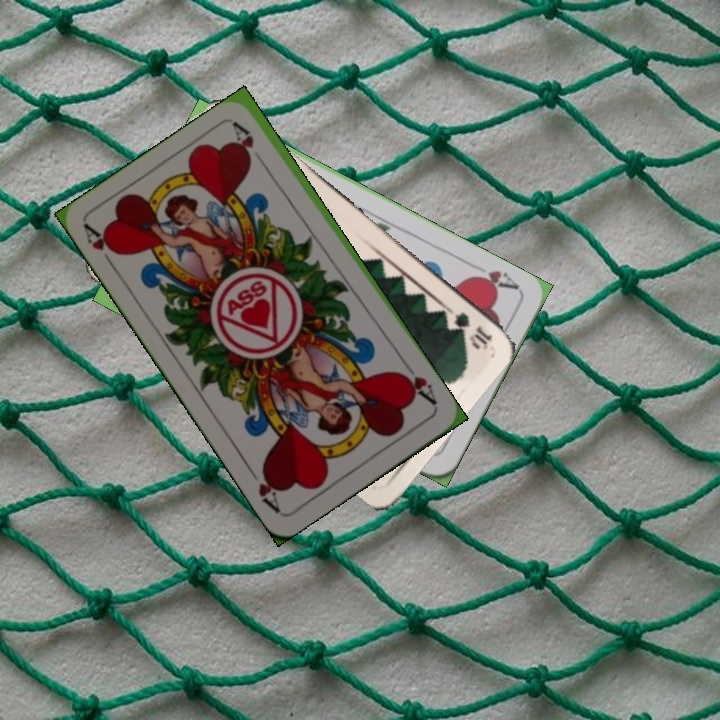G10: (441, 305, 496, 351)
HA: (394, 357, 440, 408), (80, 221, 124, 274), (464, 266, 522, 294)
